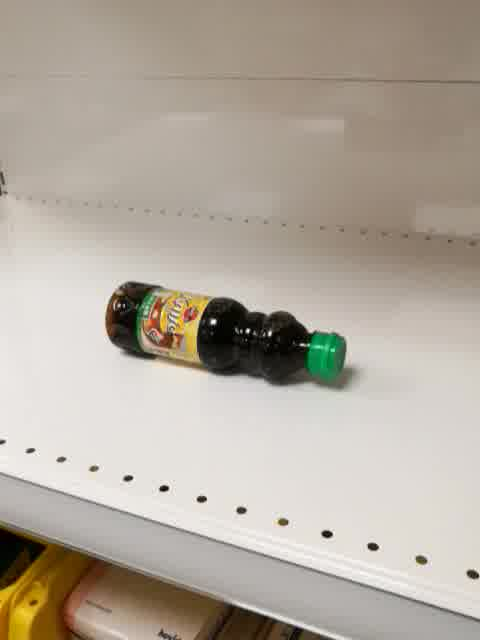cookingoil: (101, 277, 350, 389)
